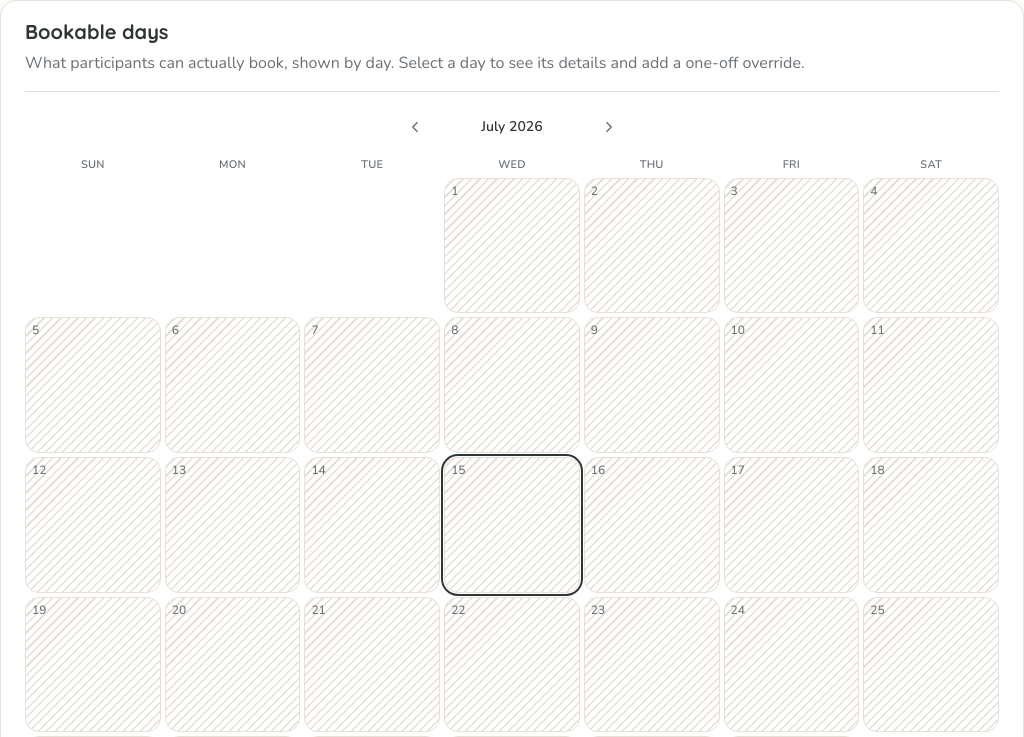
Test: MonthAvailabilityView — month navigation › moves to the next/previous month and keeps rendering day cells
The width and height of the screenshot is (1024, 737).
Check: the button "July 2026" is shown, box [436,108,588,145]
Click the button named "next month" at (609, 126), box [592,110,626,144]
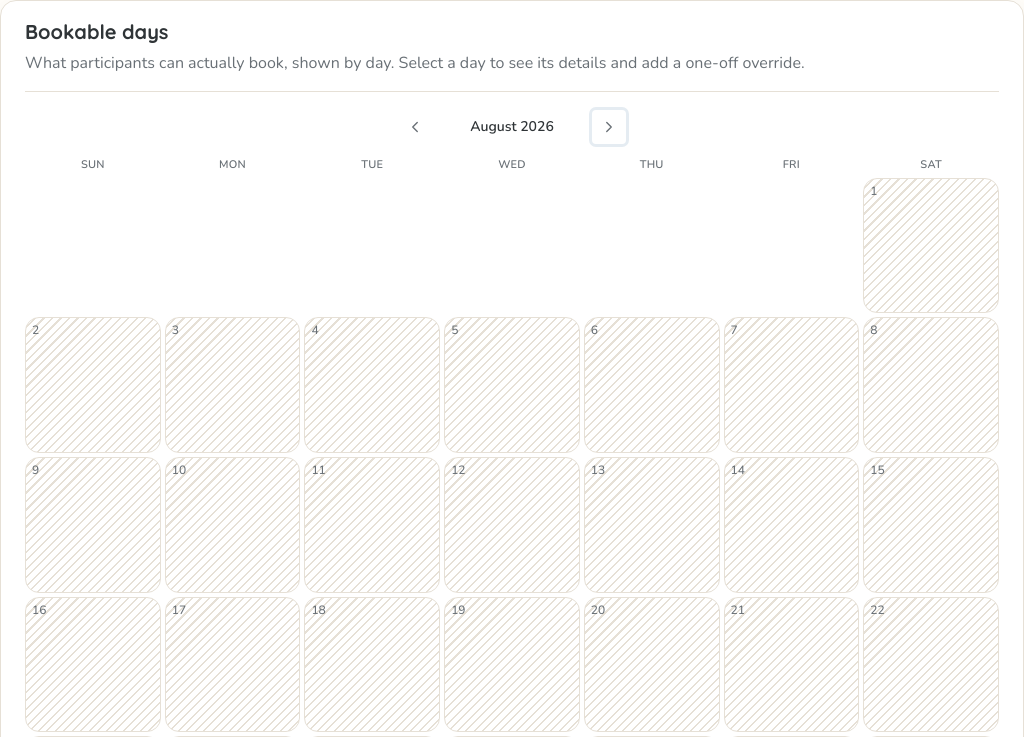
Check: the button "August 2026" is shown, box [436,108,588,145]
Check: the cell with test id "calendar-day-2026-08-01" is shown, box [863,178,999,313]
Click the button named "previous month" at (415, 126), box [398,110,432,144]
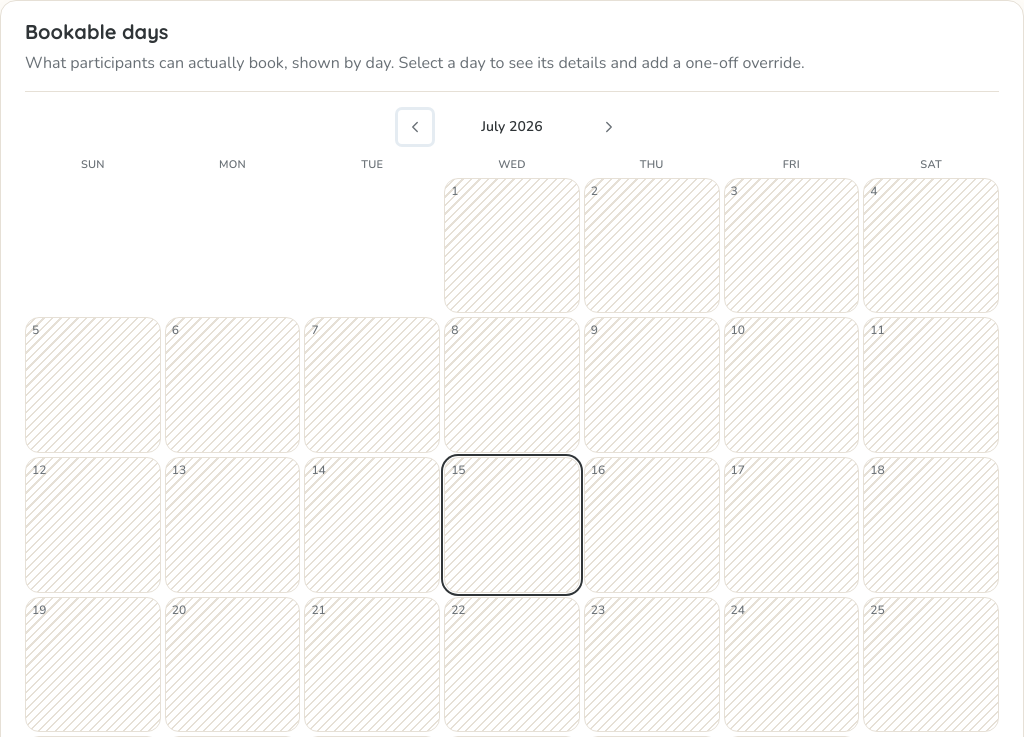
Click the button named "previous month" at (415, 126), box [398,110,432,144]
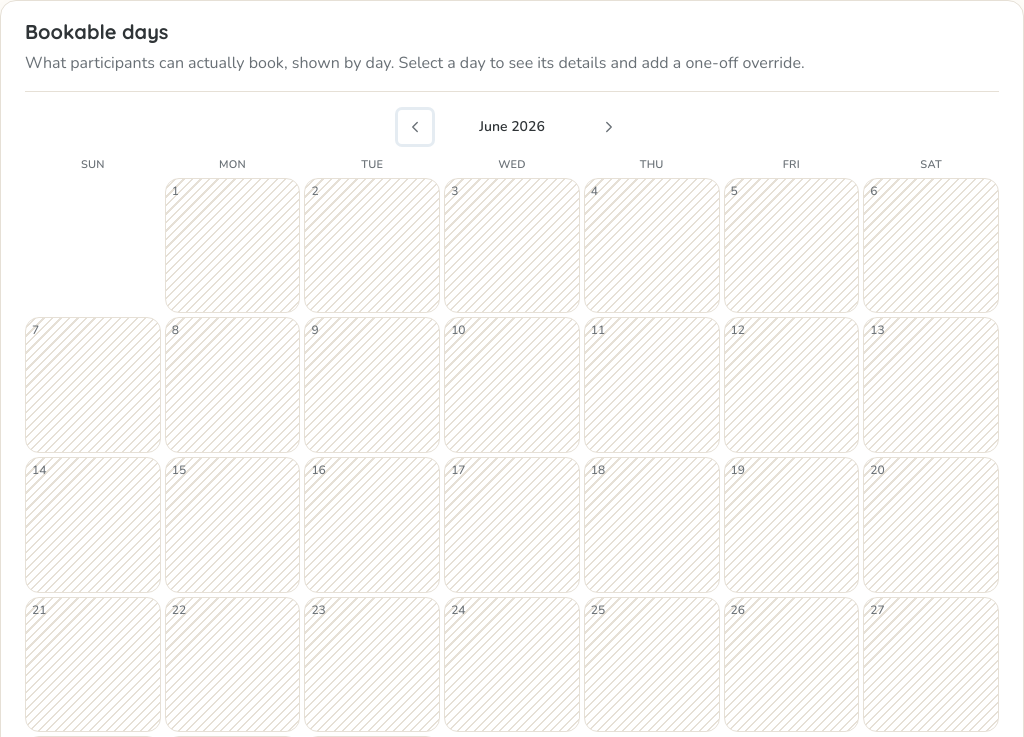
Check: the button "June 2026" is shown, box [436,108,588,145]
